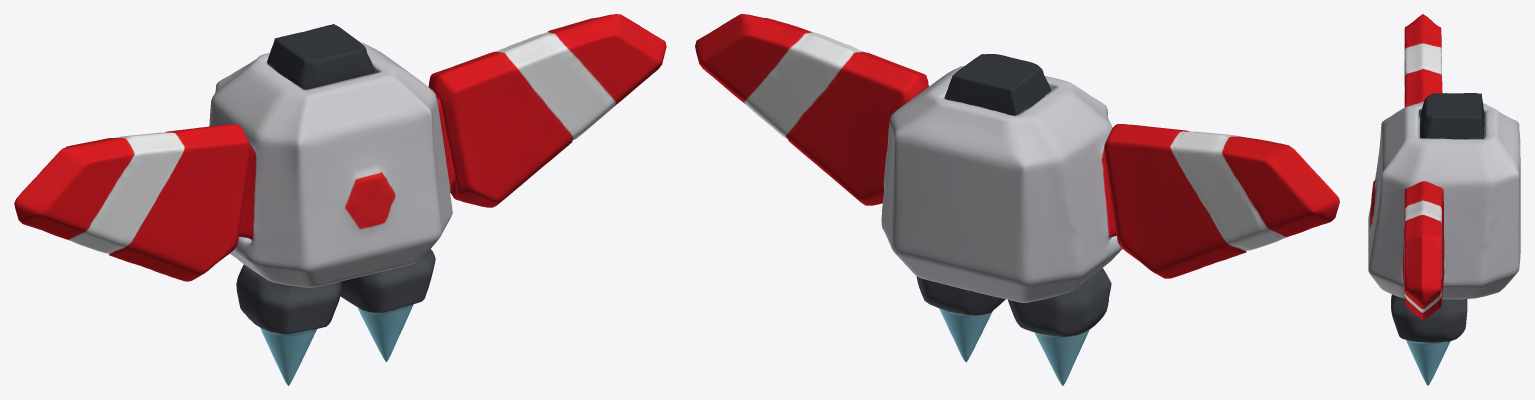
The model's file is rocket.glb.
3 views of the same model, side by side, from view 1: azimuth 30°, elevation 25°; view 2: azimuth 150°, elevation 25°; view 3: azimuth 270°, elevation 25° (orthographic). The views are drawn at different scales.
Visible parts, largest first — view 1: model; view 2: model; view 3: model.
Boxes of the visible parts, x1,y1,x2,y2 form: model: [14, 14, 666, 385]; model: [695, 14, 1339, 385]; model: [1368, 14, 1520, 385].
Bounding box in the file's own units: 1.89 × 0.8876 × 0.4691.
1 material, 1 textured.
